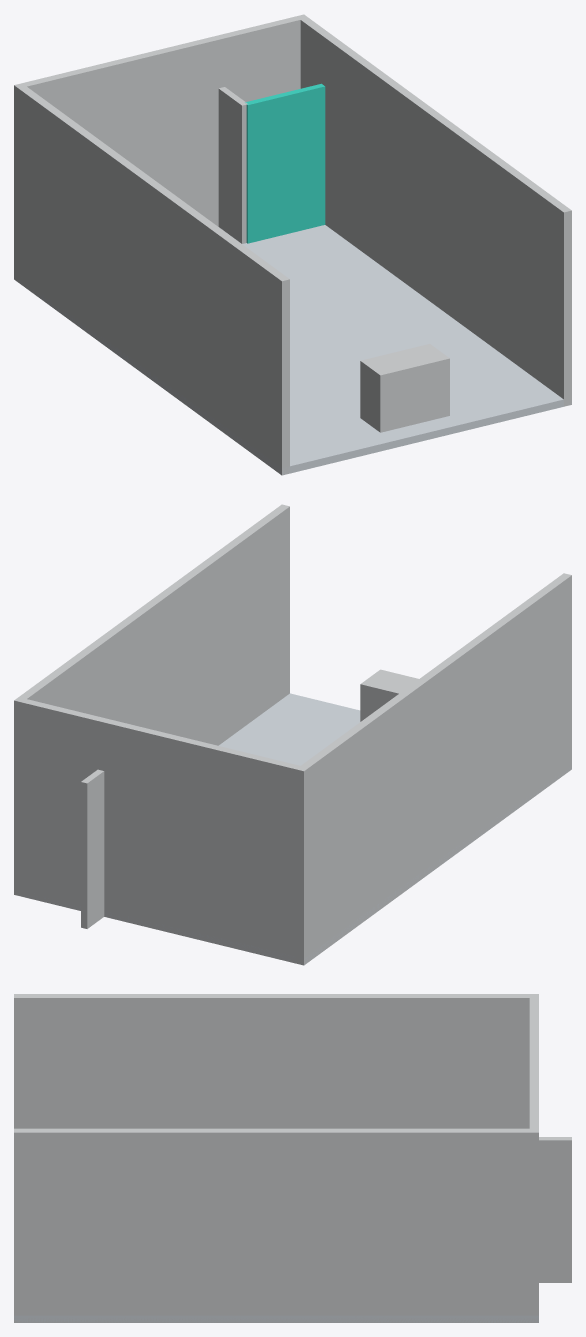
3 views of the same model, one above another, from view 1: azimuth 30°, elevation 25°; view 2: azimuth 150°, elevation 25°; view 3: azimuth 270°, elevation 25° (orthographic). The views are drawn at different scales.
Visible parts, largest first — view 1: Exhibition Booth Concept; view 2: Exhibition Booth Concept; view 3: Exhibition Booth Concept.
Part boxes in pixels (x1=…): Exhibition Booth Concept: x1=14, y1=14, x2=571, y2=475; Exhibition Booth Concept: x1=14, y1=504, x2=571, y2=965; Exhibition Booth Concept: x1=14, y1=994, x2=571, y2=1322.
Size of the model in its own units: 5 by 3.2 by 8.51.
